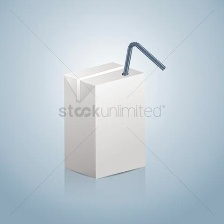carton: (58, 59, 151, 180)
drinking_straw: (121, 38, 169, 79)
